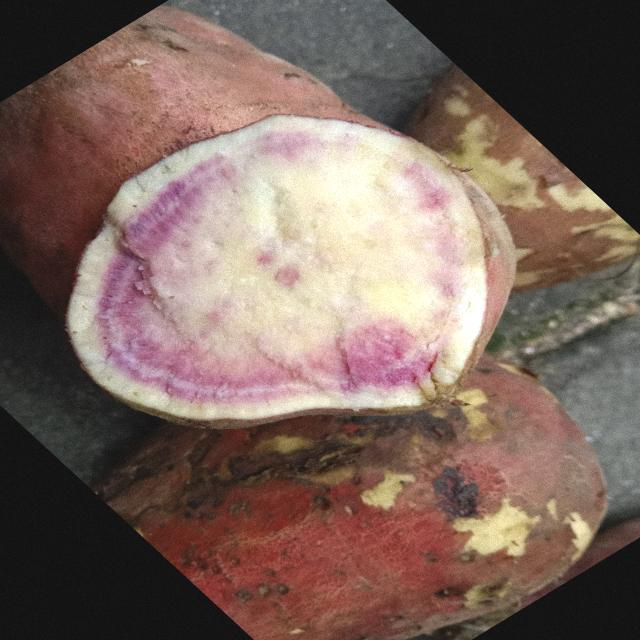Healthy Sweet Potato: (67, 115, 515, 429)
